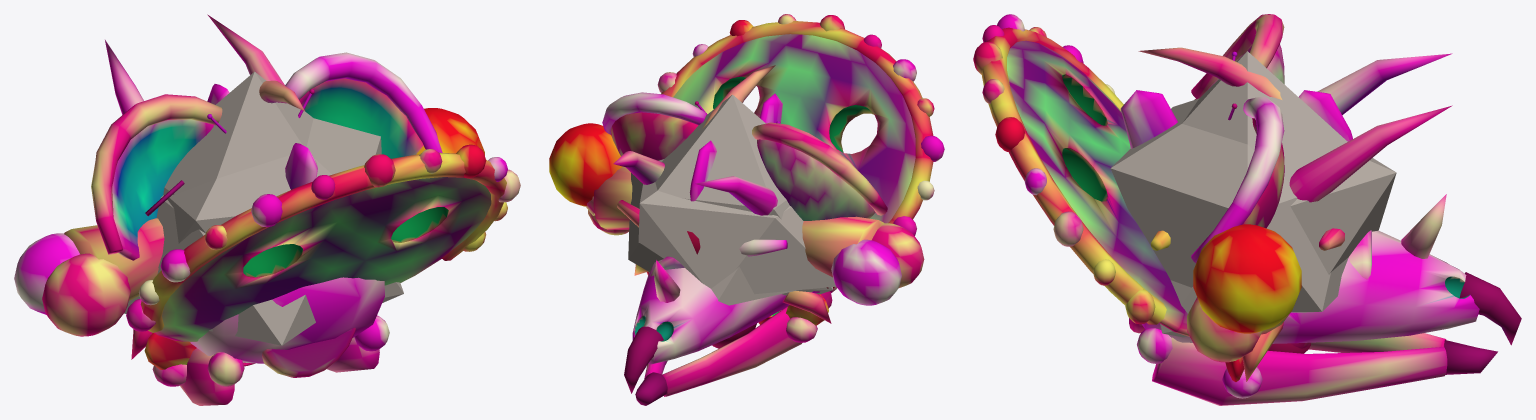
The model's file is finds.glb.
3 renders of one model, left to right at view 1: azimuth 30°, elevation 25°; view 2: azimuth 150°, elevation 25°; view 3: azimuth 270°, elevation 25°, orthographic. The views are drawn at different scales.
Parts seen in each view (by area): view 1: TitanSkull, Pelvis, TitanFemur, Chunk_2, Chunk_1, Chunk_0, Spine, Tusk; view 2: TitanSkull, TitanFemur, Pelvis, Chunk_0, Chunk_2, Spine, Chunk_1, Tusk; view 3: TitanSkull, Chunk_1, TitanFemur, Pelvis, Chunk_2, Chunk_0, Spine, Tusk.
Boxes of the visible parts, x1,y1,x2,y2 form: TitanSkull: (105,14,520,405); Pelvis: (91,52,442,386); TitanFemur: (14,108,484,336); Chunk_2: (163,71,403,302); Chunk_1: (165,118,381,243); Chunk_0: (124,195,315,345); Spine: (207,84,355,377); Tusk: (243,80,304,366); TitanSkull: (613,14,944,405); TitanFemur: (549,123,924,305); Pelvis: (602,92,887,342); Chunk_0: (638,182,835,294); Chunk_2: (655,94,832,295); Spine: (617,93,787,276); Chunk_1: (628,159,796,305); Tusk: (702,65,775,348); TitanSkull: (973,14,1521,405); Chunk_1: (1110,98,1348,312); TitanFemur: (1187,99,1301,362); Pelvis: (1191,14,1284,398); Chunk_2: (1160,51,1347,337); Chunk_0: (1290,158,1396,274); Spine: (1120,90,1371,333); Tusk: (1138,47,1310,353).
Bounding box in the file's own units: 1.65 × 1.13 × 1.7.
